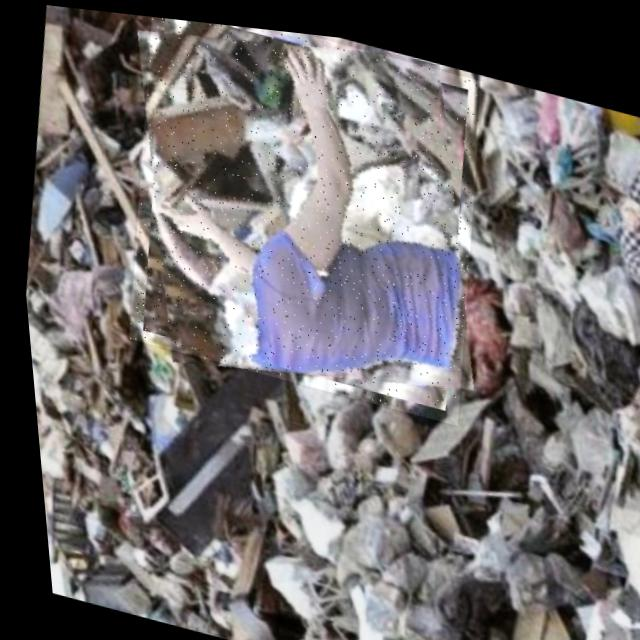Person in Rubble: (100, 9, 505, 420)
